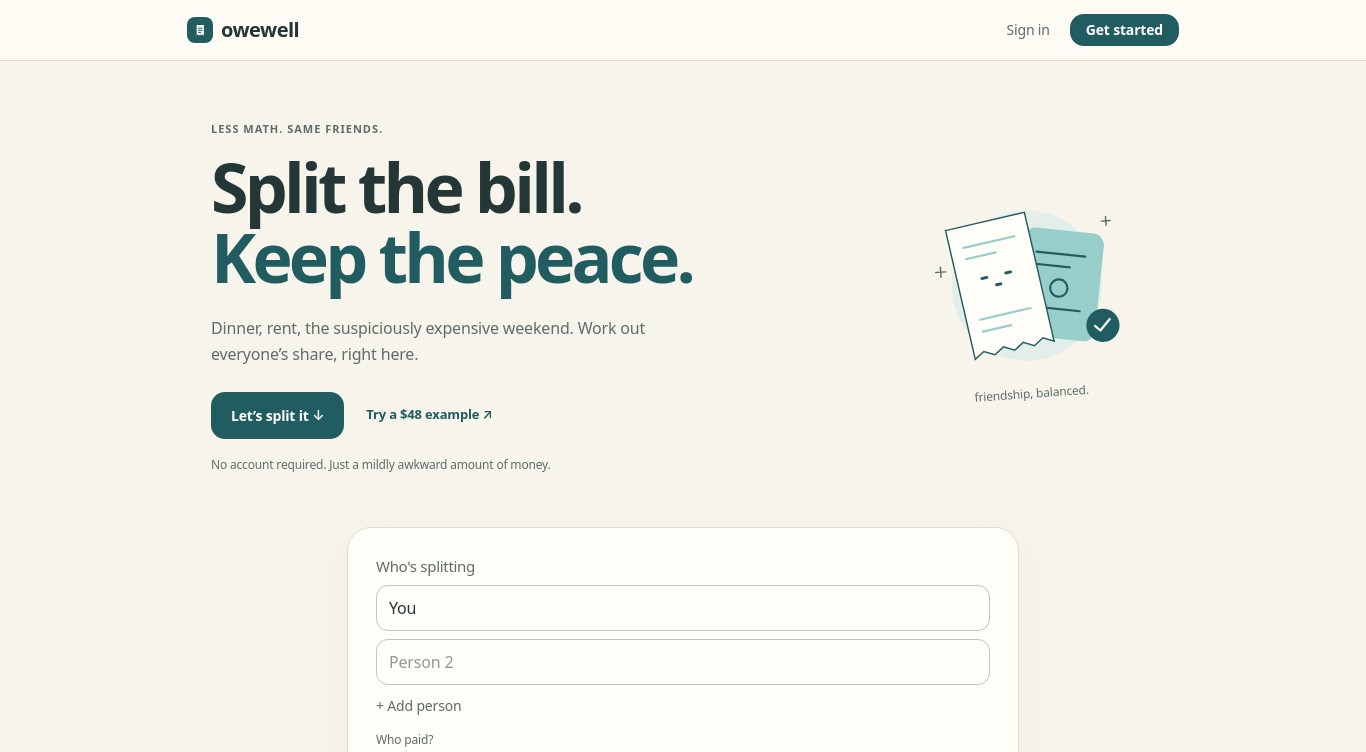
Test case: the split itself › lets a fresh visitor explore an explicitly labeled example
Click the button "Try a $48 example ↗". click: click(429, 415)
box: 366,394 -> 492,437
(page scrolled)
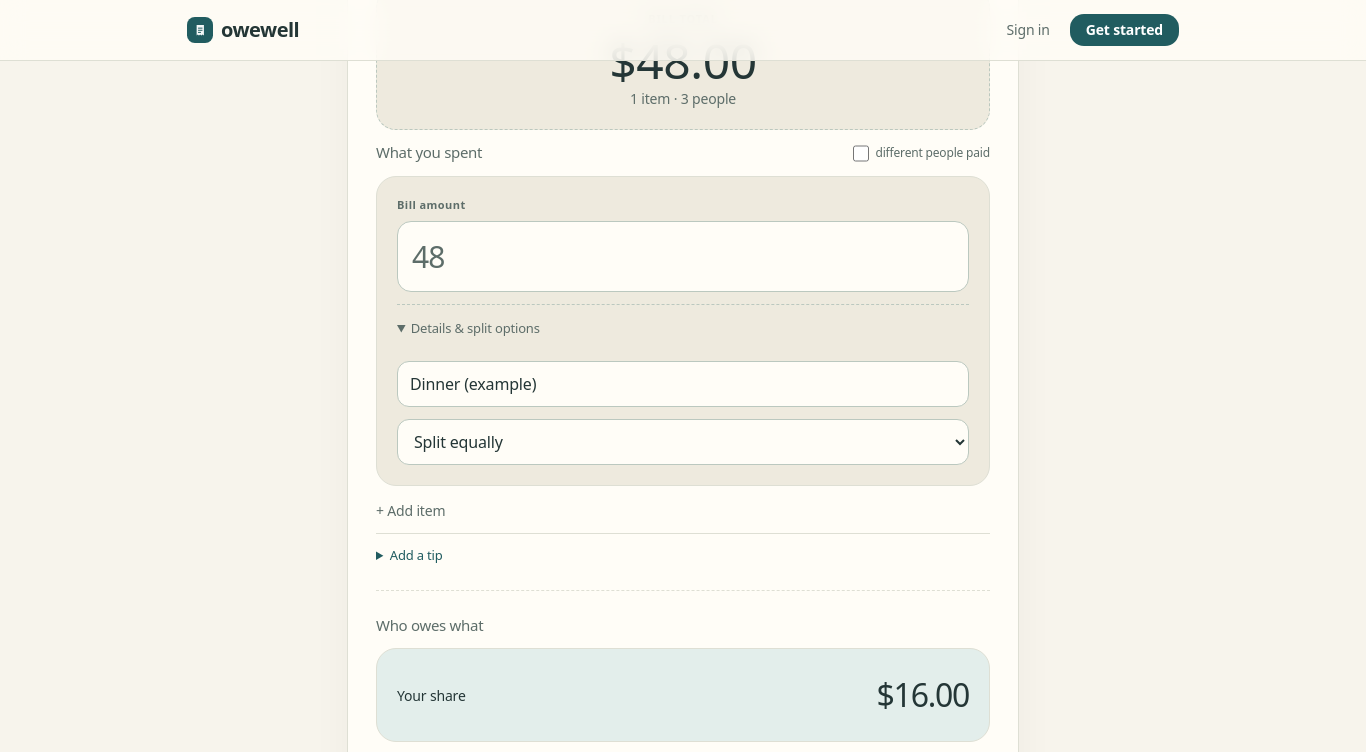
Expected: the field named "Item 1 description" holds "Dinner (example)", 397,361 -> 969,407
